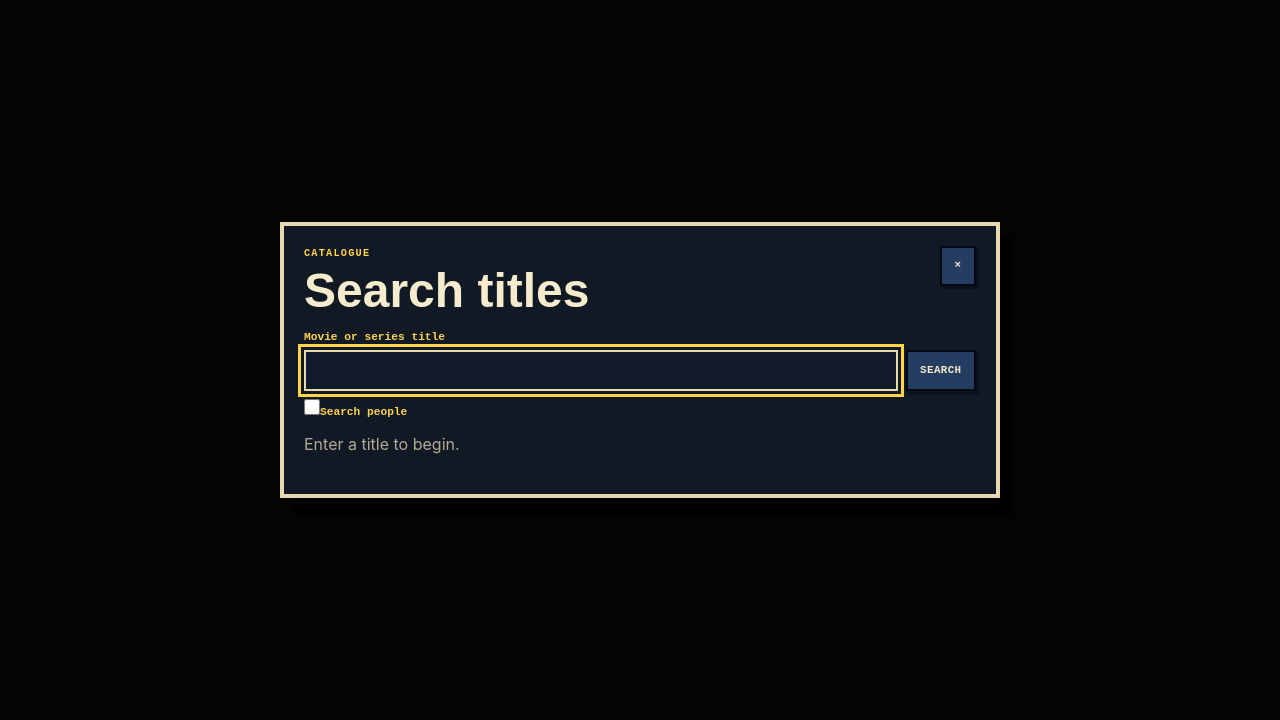
Scenario: person search › shows empty and error states in people mode
Click the checkbox labelled "Search people" at point(312, 407), box [304,399,320,415]
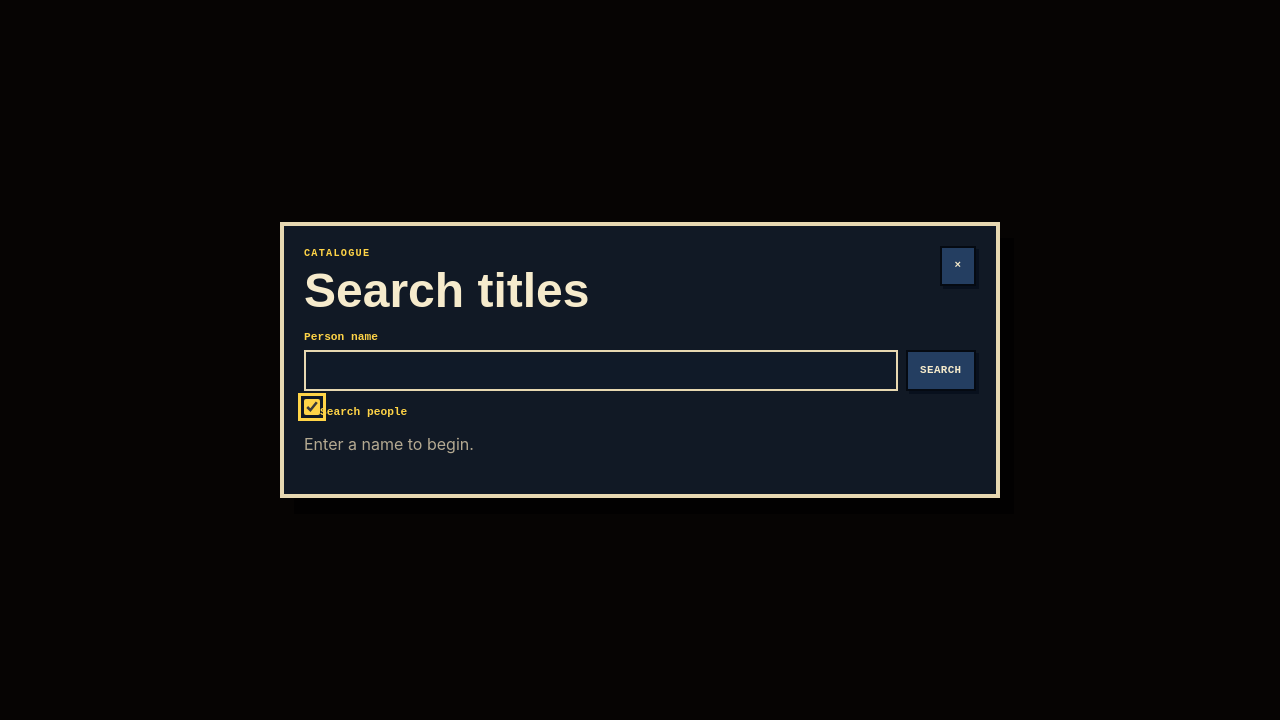
Type "none" into the search field at point(601, 370), box [304,350,898,391]
Then press Enter
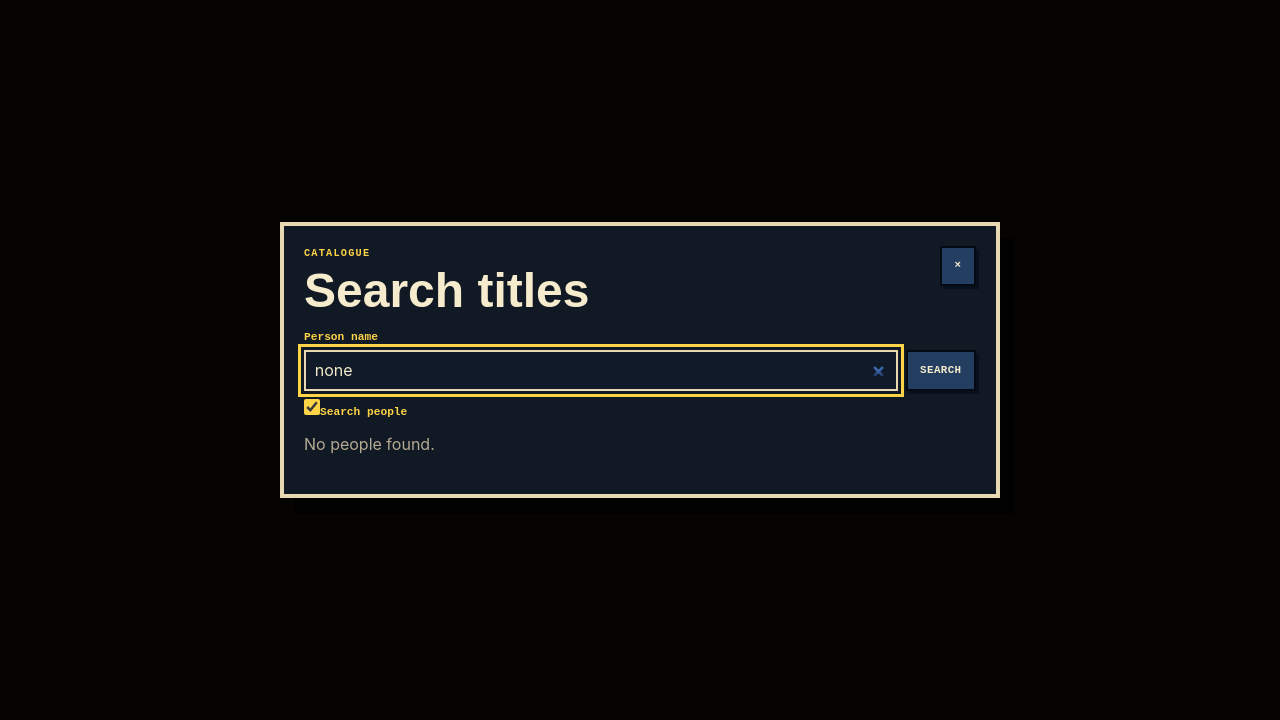
Now the text "No people found." is shown, box [304,434,435,454]
Replace the text in the search field with "again" at point(601, 370), box [304,350,898,391]
Then press Enter
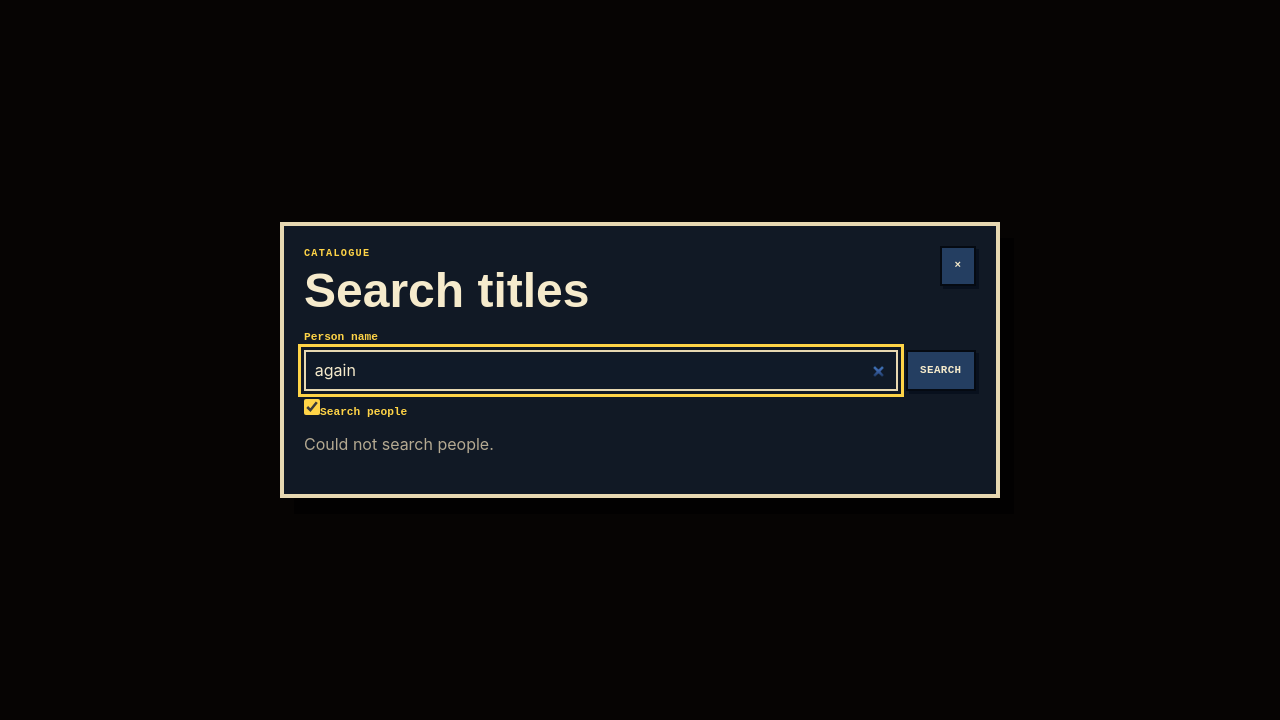
Now the message reads "Could not search people.", box [304,434,494,454]
